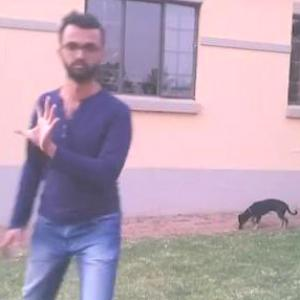follow_hand: (12, 89, 66, 151)
